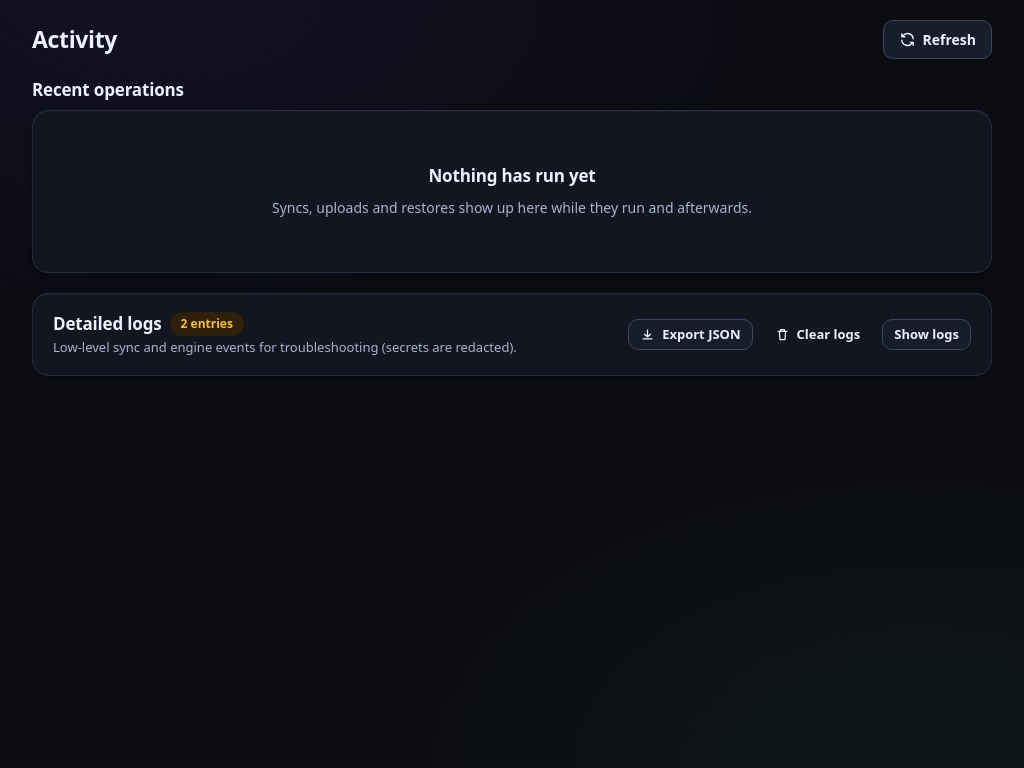
Scenario: ActivityScreen › hides detailed logs by default, expands/filters them, exports JSON, and clears logs
Expected: the heading "Activity" is shown, top-left (32, 25), bottom-right (117, 54)
Expected: the text "Synced cleanly" is not shown
Click the button "Show logs" at coordinates (927, 334), box top-left (882, 318), bottom-right (971, 350)
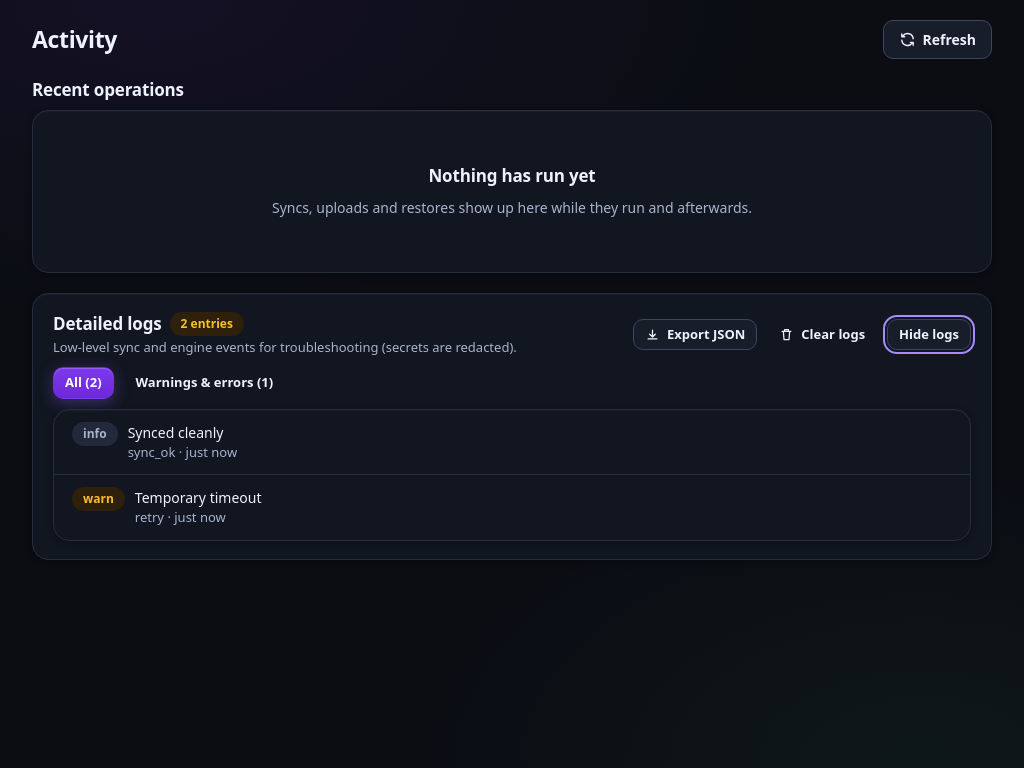
Now the text "Synced cleanly" is shown, box top-left (128, 422), bottom-right (223, 442)
Now the text "Temporary timeout" is shown, box top-left (135, 488), bottom-right (262, 507)
Click the button "Warnings & errors (1)" at coordinates (204, 383), box top-left (124, 367), bottom-right (285, 398)
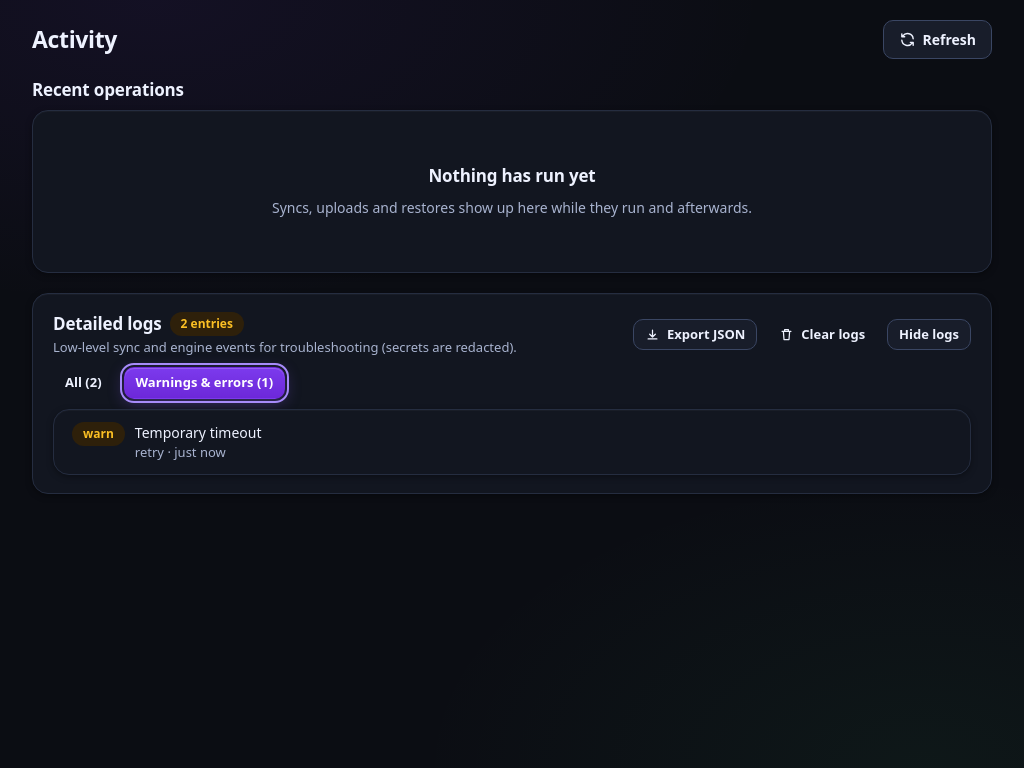
Now the text "Temporary timeout" is shown, box top-left (135, 422), bottom-right (262, 442)
Now the text "Synced cleanly" is gone
Click the button "Export JSON" at coordinates (695, 334), box top-left (633, 318), bottom-right (757, 350)
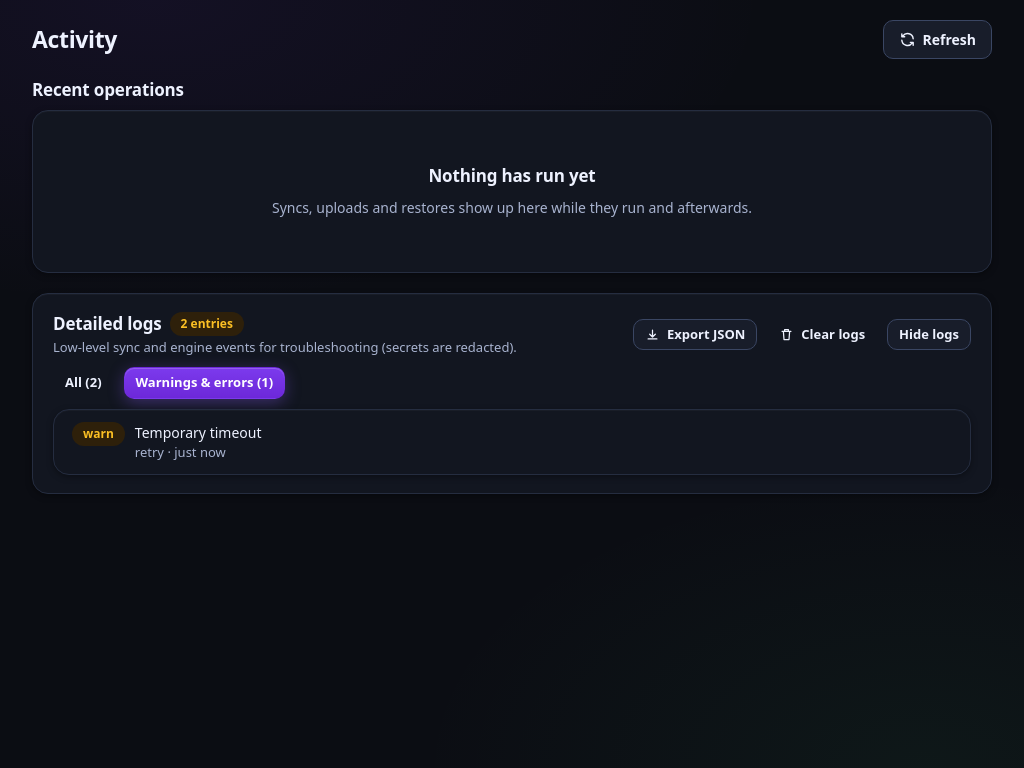
Click the button "Clear logs" at coordinates (822, 334), box top-left (767, 318), bottom-right (877, 350)
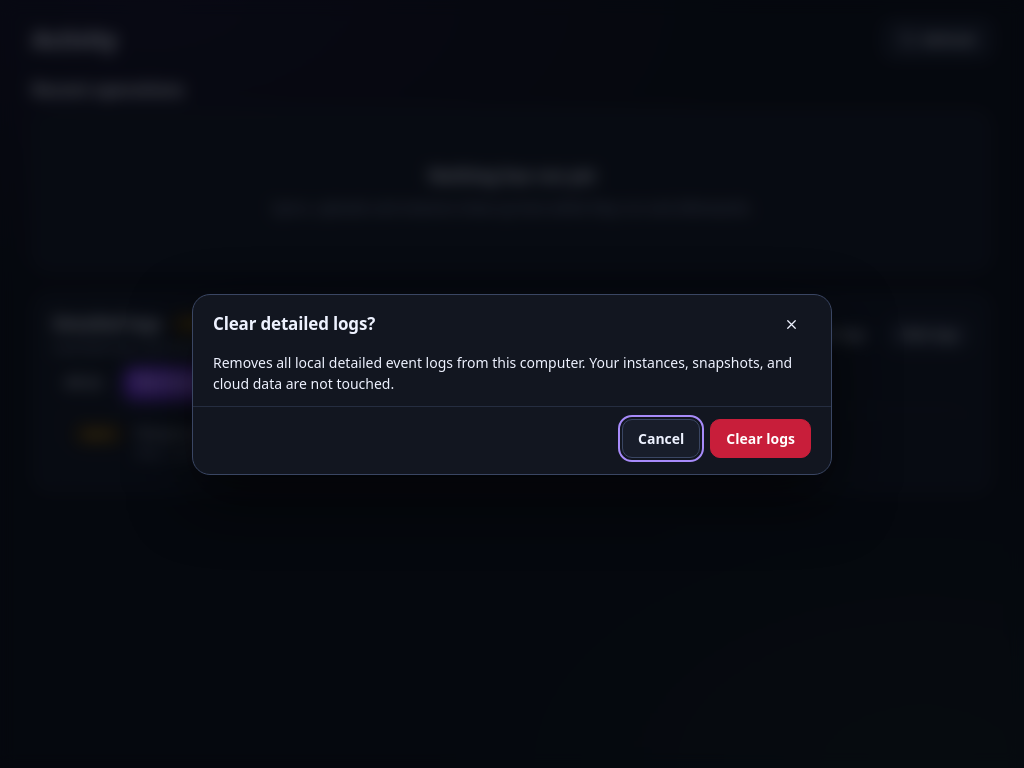
Click the button "Clear logs" at coordinates (761, 438), box top-left (710, 418), bottom-right (811, 458)
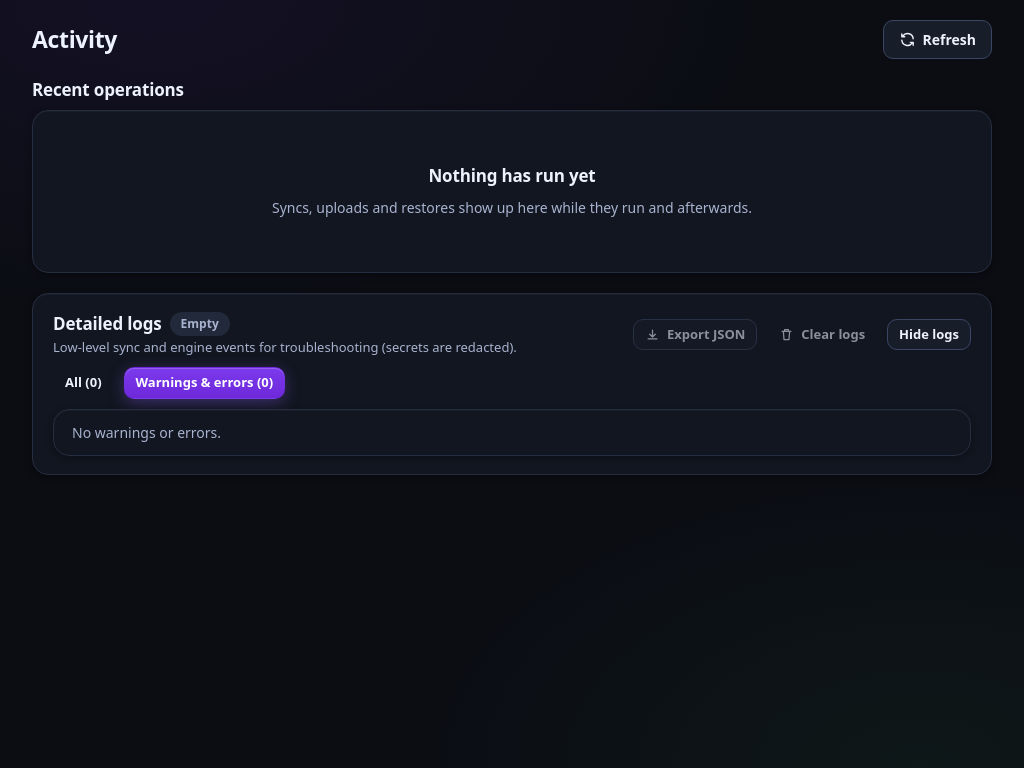
Now the list item "No warnings or errors." is shown, box top-left (72, 422), bottom-right (221, 442)
Now the button "Clear logs" is disabled, box top-left (767, 318), bottom-right (877, 350)
